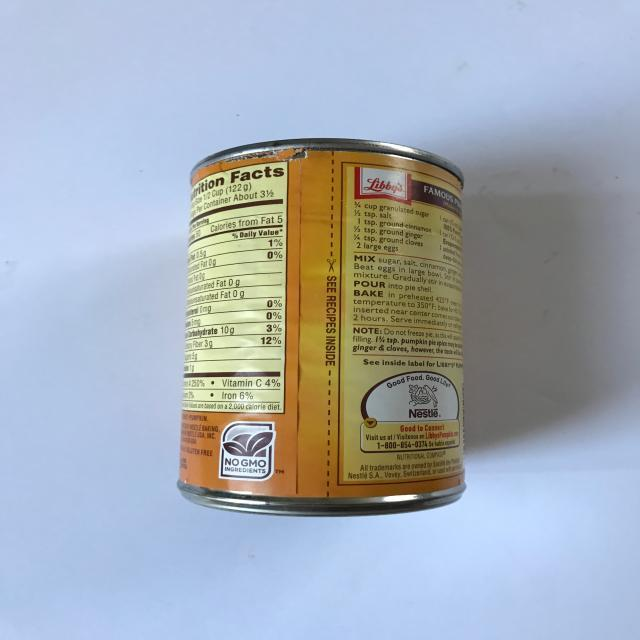metal: (174, 136, 471, 518)
